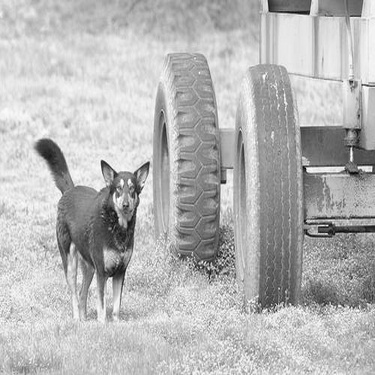dog: (33, 129, 154, 329)
